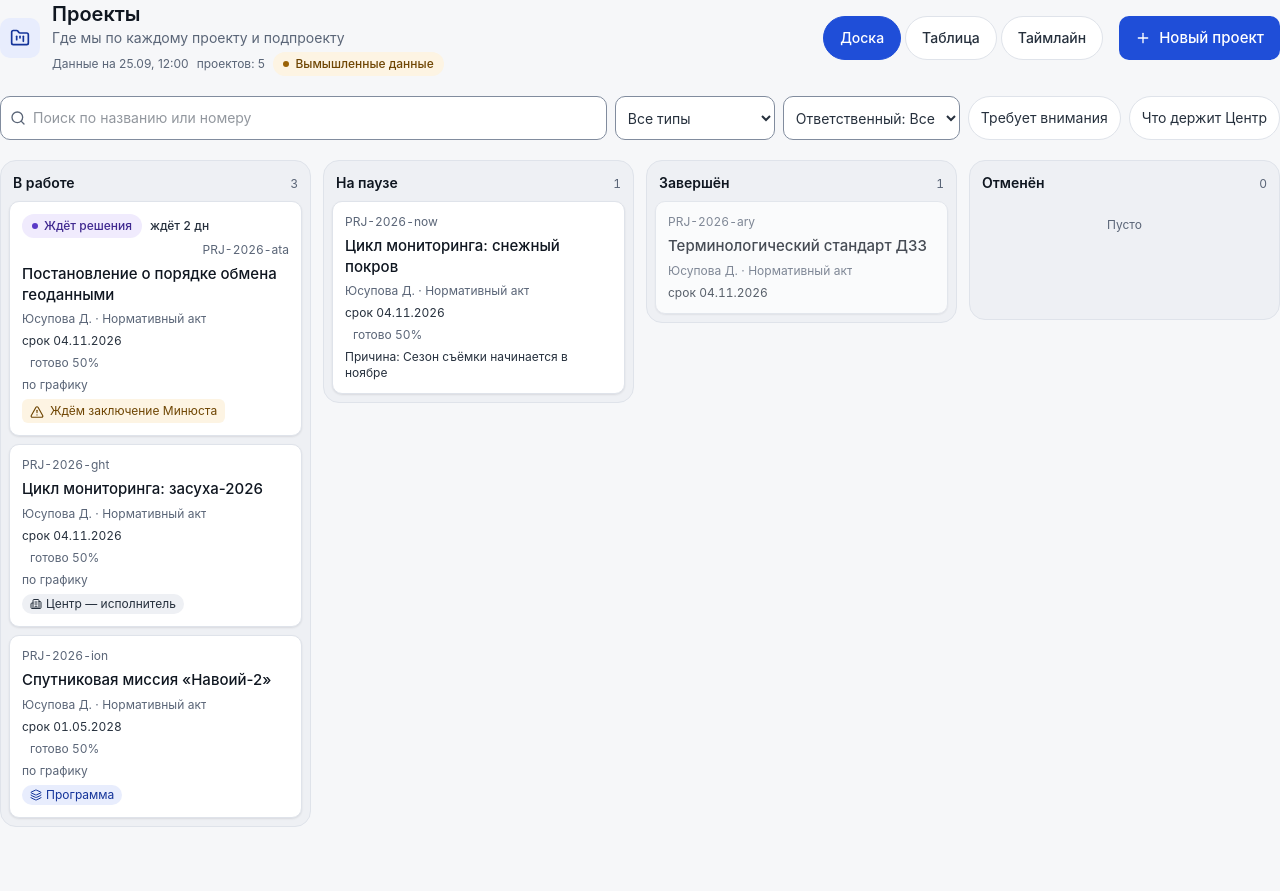
it: Проекты › отказ по версии в карточке сказан словами, а не проглочен
This screenshot has width=1280, height=891.
Click the button "Постановление о порядке": (156, 319) x1=10 y1=202 x2=301 y2=435
(page scrolled)
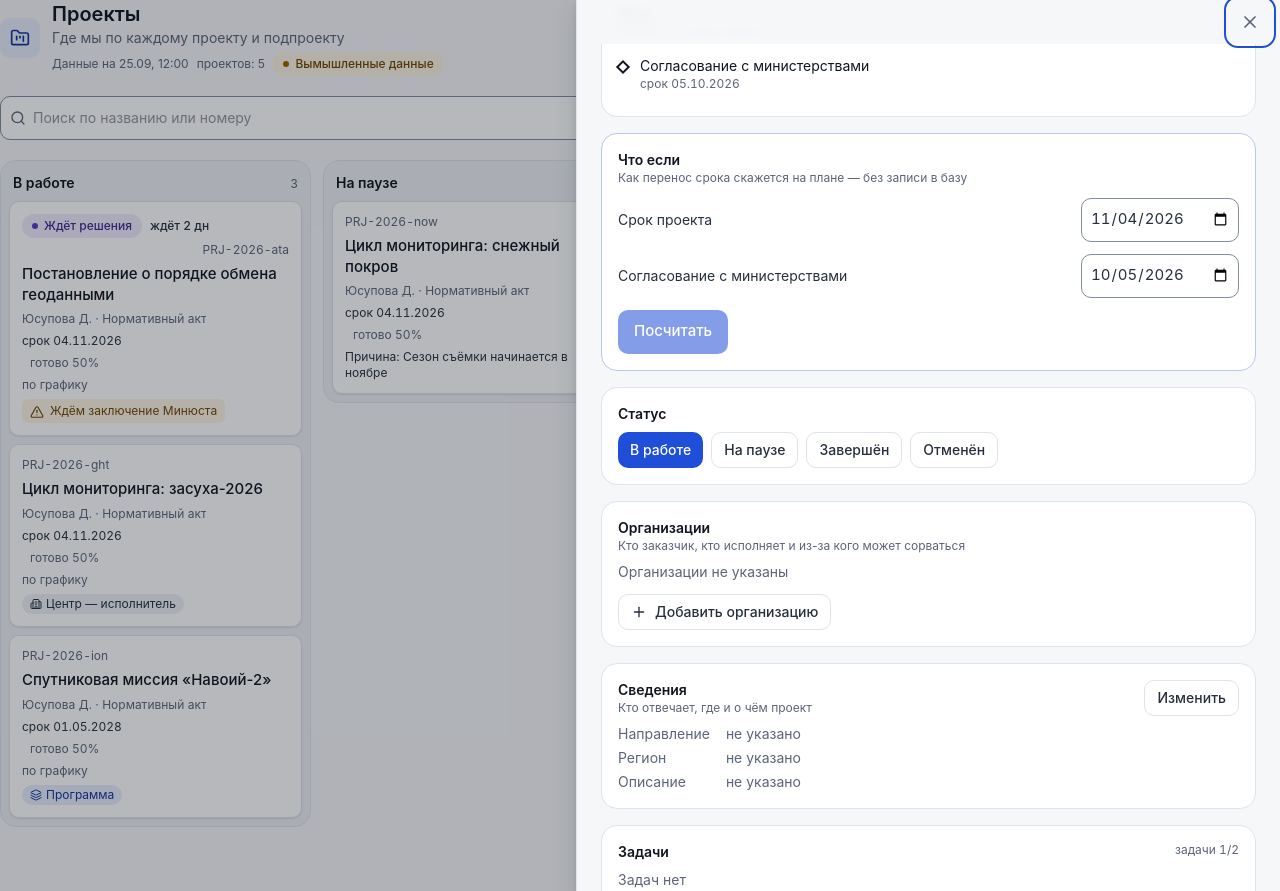
Click the button "Завершён": (854, 450) x1=806 y1=432 x2=902 y2=468
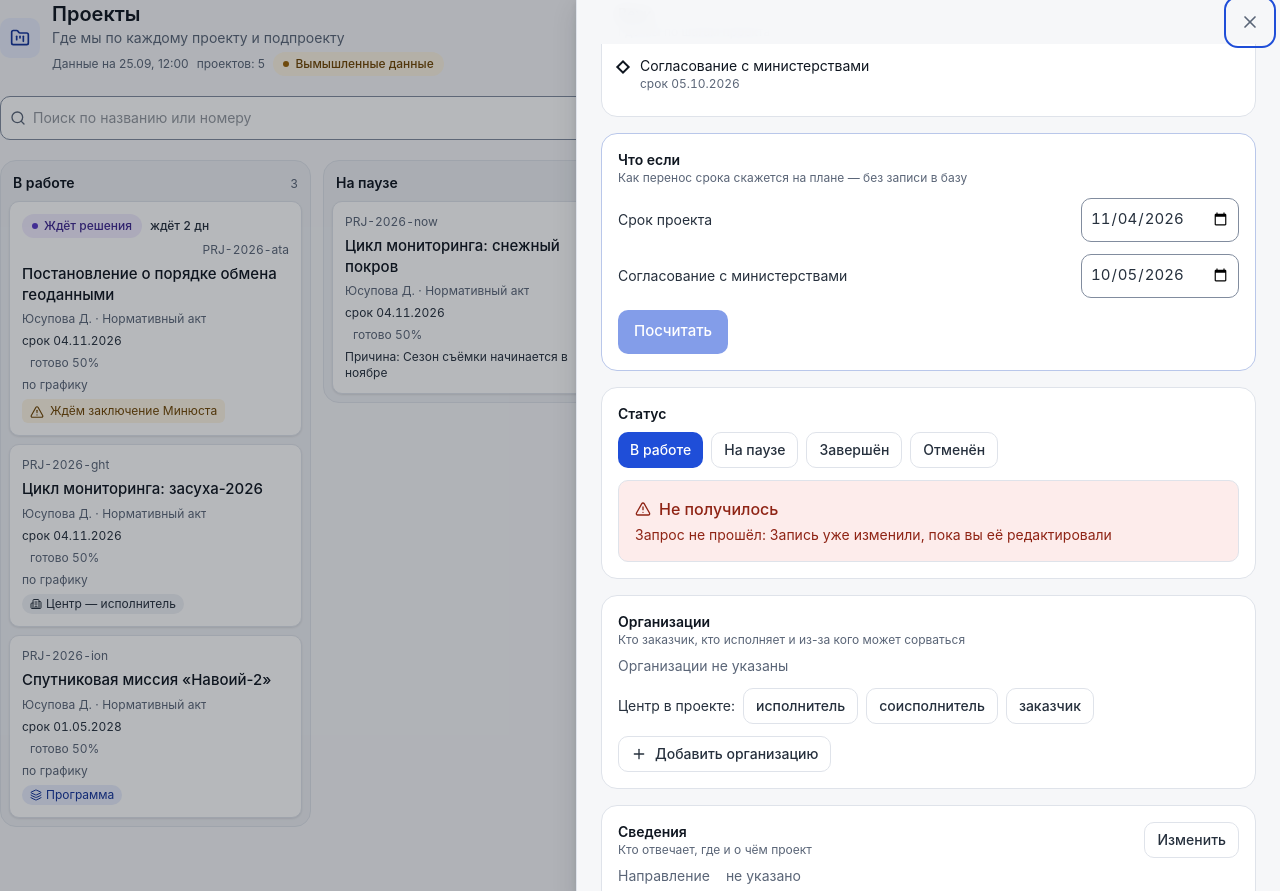
Result: the text "Запись уже изменили, пока вы её редактировали" is shown at x1=635 y1=526 x2=1112 y2=542
